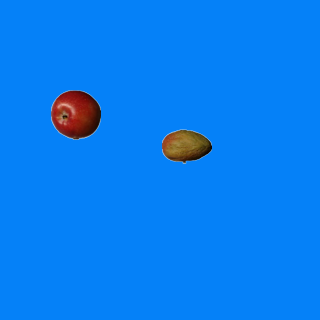Apple Braeburn: (50, 89, 100, 139)
Papaya: (161, 121, 211, 171)
